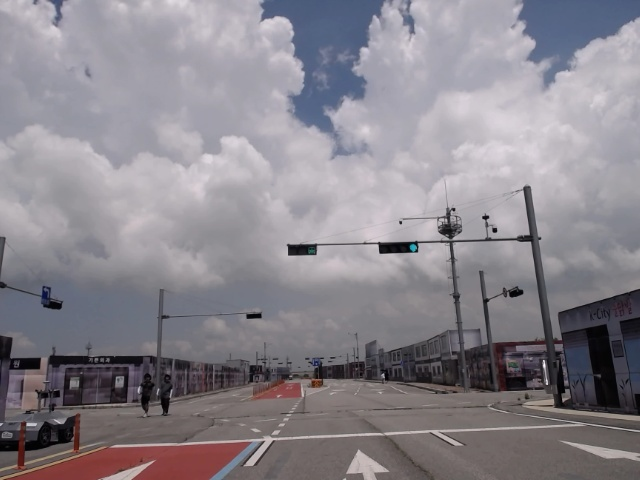straight_green_4: (379, 243, 417, 253)
